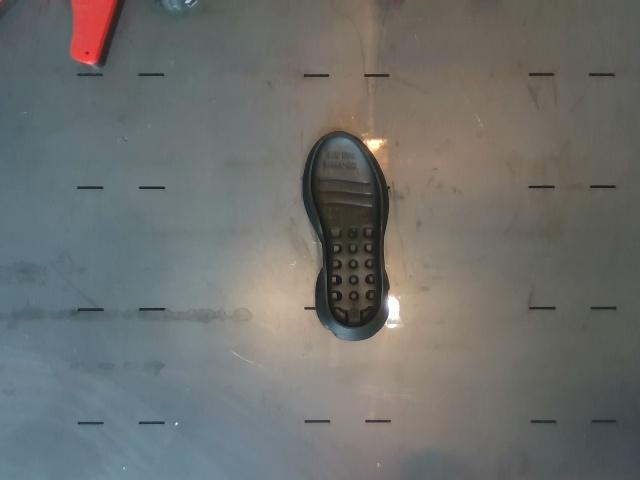shoes: (310, 133, 382, 327)
